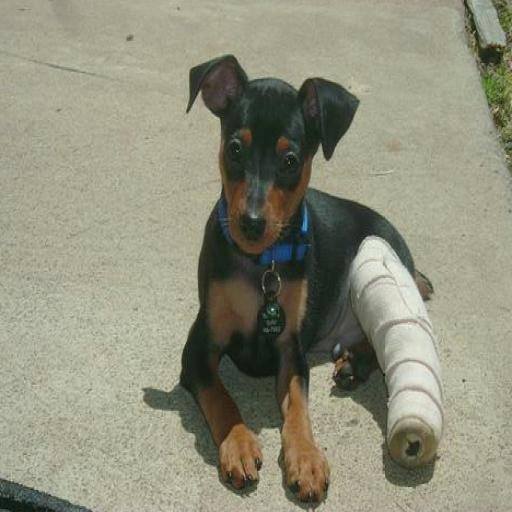dog_face: (179, 50, 352, 251)
